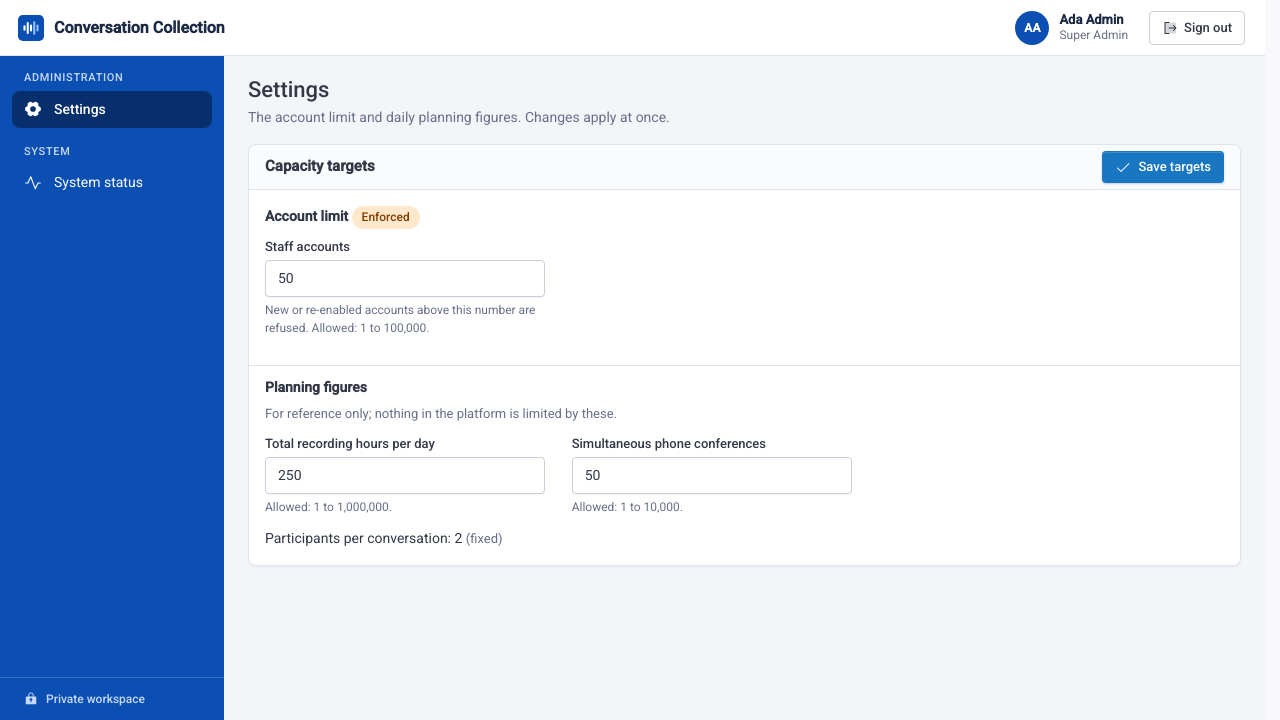
SettingsPage › refuses an empty box naming the field, and sends nothing
Clear the number field labelled "Staff accounts" at (405, 279), box [265,260,545,297]
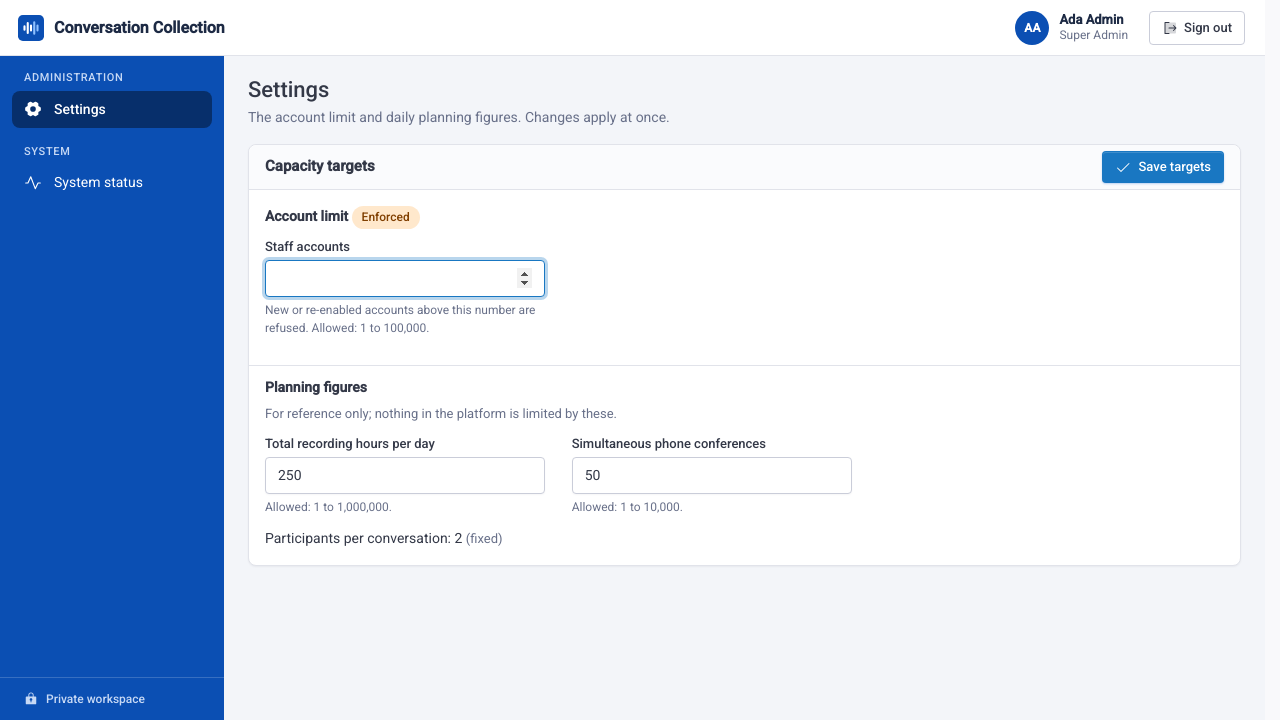
Click the button "Save targets".
click(1163, 167)  # box [1102,151,1224,183]
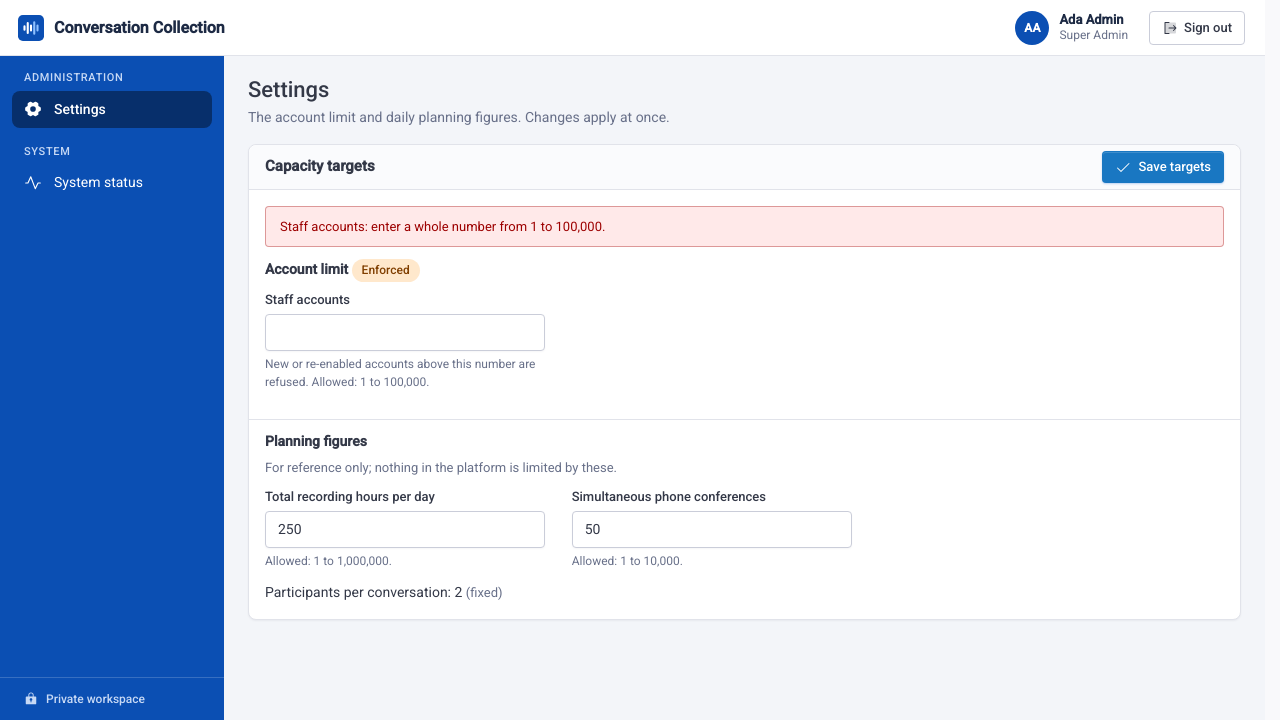
Expected: the text "Staff accounts: enter a whole number from 1 to 100,000." is shown, [280,219,605,234]
